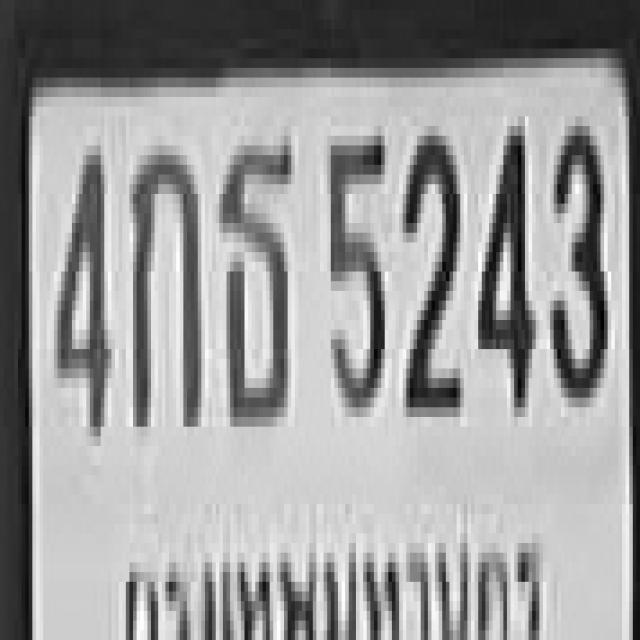10GorGai: (129, 136, 198, 417)
2: (401, 126, 455, 407)
3: (547, 116, 604, 398)
33ThorThong: (216, 131, 291, 412)
4: (473, 111, 530, 402), (52, 136, 106, 427)
5: (324, 126, 381, 407)
